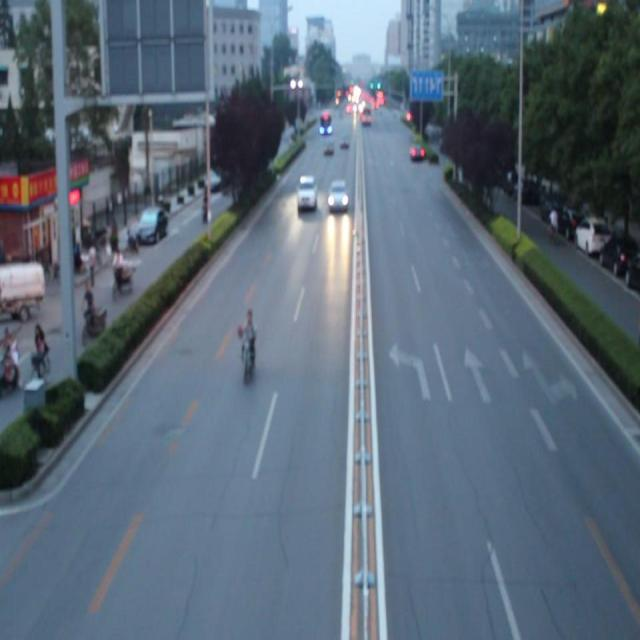car: (296, 175, 318, 211), (327, 178, 348, 210)
